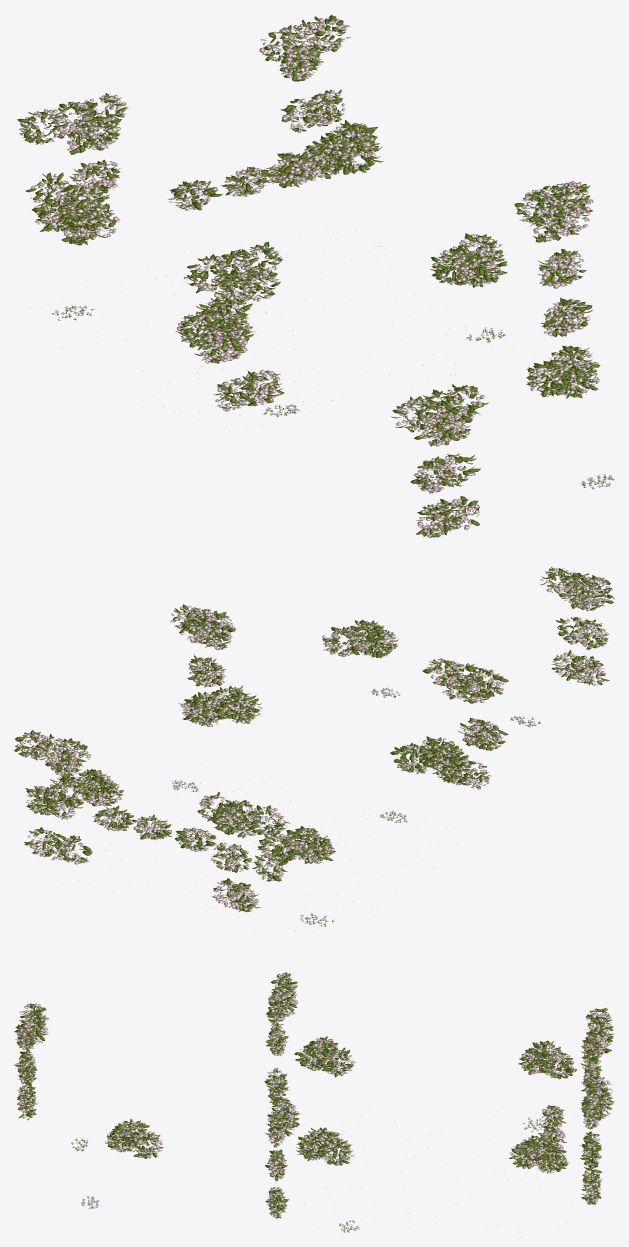
Rendered from R4_LayeredVegetation.fbx.
3 renders of one model, top to bottom at view 1: azimuth 30°, elevation 25°; view 2: azimuth 150°, elevation 25°; view 3: azimuth 270°, elevation 25°, orthographic. The views are drawn at different scales.
Parts seen in each view (by area): view 1: R4_LayeredVegetation; view 2: R4_LayeredVegetation; view 3: R4_LayeredVegetation.
Boxes of the visible parts, bbox=[...] form: R4_LayeredVegetation: bbox=[14, 14, 614, 537]; R4_LayeredVegetation: bbox=[14, 567, 614, 936]; R4_LayeredVegetation: bbox=[14, 972, 614, 1232].
Size of the model in its own units: 36.78 by 16.46 by 64.89.
